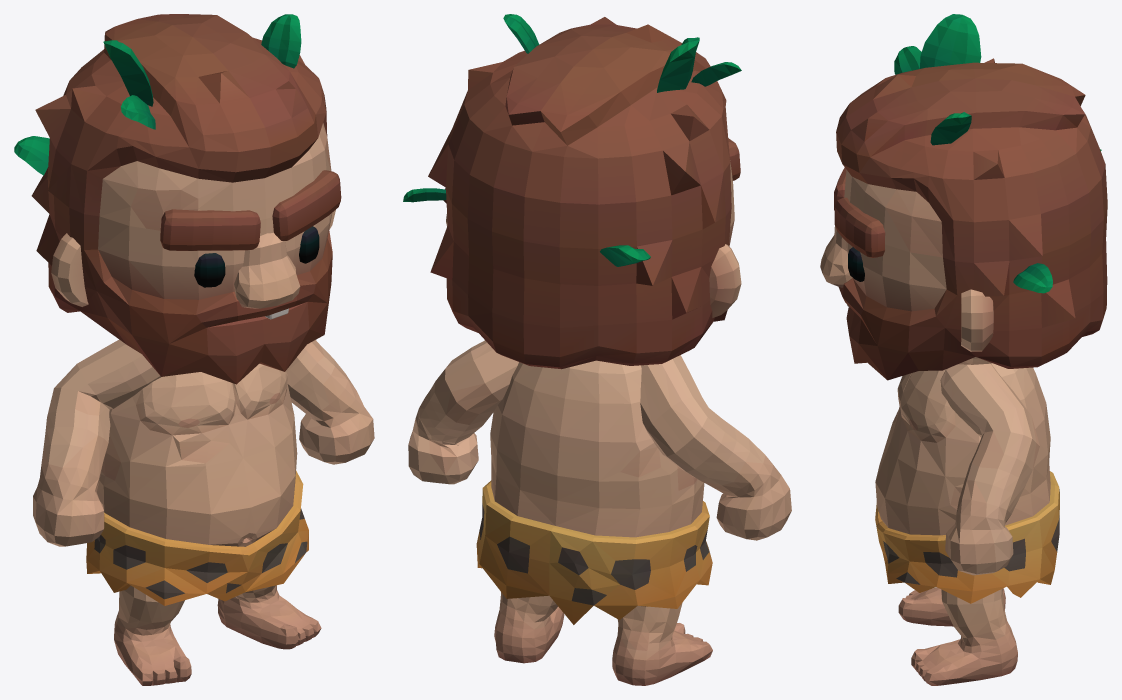
The model's file is caveman.glb.
The picture shows the model from 3 angles, left to right: view 1: azimuth 30°, elevation 25°; view 2: azimuth 150°, elevation 25°; view 3: azimuth 270°, elevation 25°; orthographic projection. The views are drawn at different scales.
Parts seen in each view (by area): view 1: caveman; view 2: caveman; view 3: caveman.
Part boxes in pixels (x1,y1,x2,y2): caveman: (14, 14, 374, 685); caveman: (403, 14, 791, 685); caveman: (820, 14, 1107, 685).
Size of the model in its own units: 0.5712 by 1 by 0.4456.
